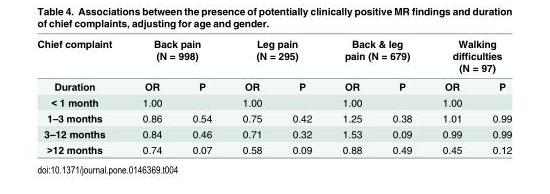table: (36, 37, 511, 155)
table column: (36, 37, 126, 155), (126, 37, 176, 155), (176, 37, 226, 155), (226, 37, 276, 155), (276, 37, 326, 155), (326, 37, 376, 155), (376, 37, 426, 155), (426, 37, 476, 155), (476, 37, 511, 155)
table column header: (36, 37, 511, 94)
table row: (36, 37, 511, 76), (36, 76, 511, 94), (36, 109, 511, 125), (36, 125, 511, 141), (36, 94, 511, 109), (36, 141, 511, 155)
table spanning cell: (36, 37, 126, 94), (126, 37, 226, 76), (226, 37, 326, 76), (326, 37, 426, 76), (426, 37, 511, 76)
